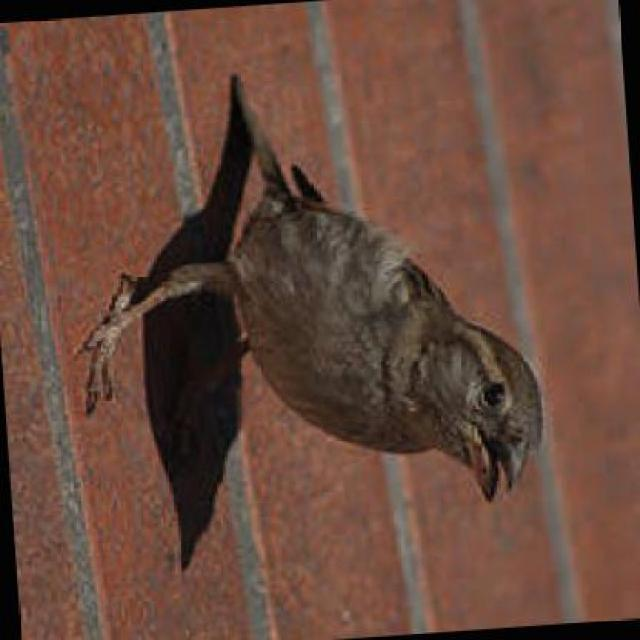Bird: (69, 68, 554, 510)
